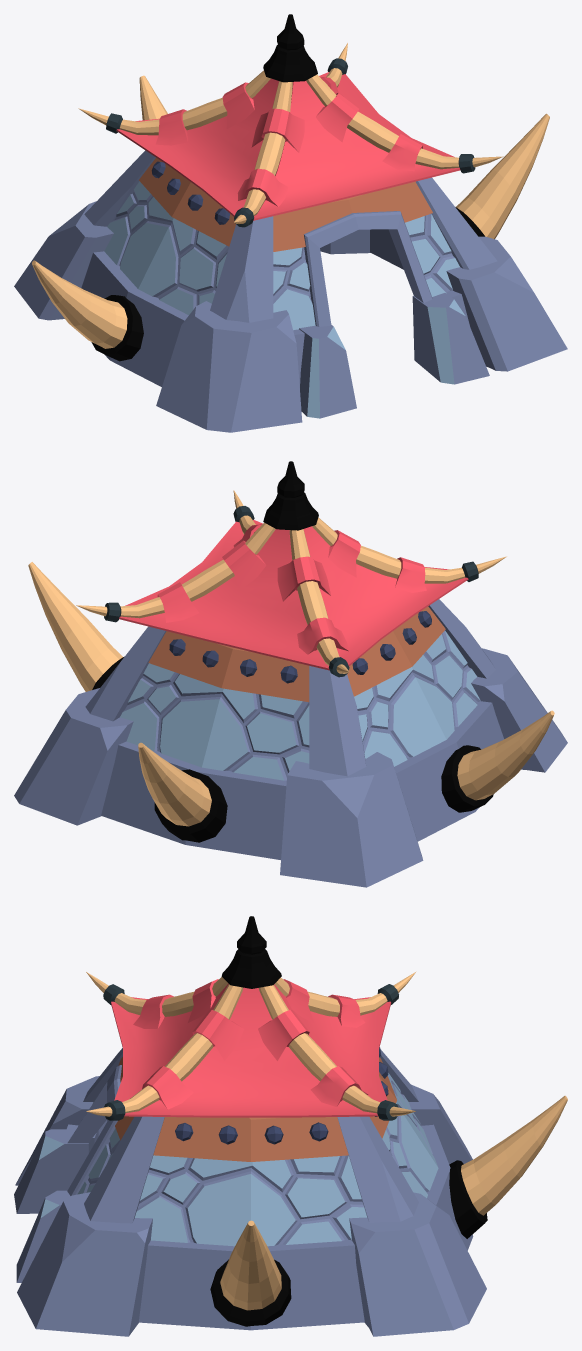
Rendered from Ork Hut 01.fbx.
3 views of the same model, one above another, from view 1: azimuth 30°, elevation 25°; view 2: azimuth 150°, elevation 25°; view 3: azimuth 270°, elevation 25° (orthographic). The views are drawn at different scales.
Visible parts, largest first — view 1: Ork Hut 01; view 2: Ork Hut 01; view 3: Ork Hut 01.
Boxes of the visible parts, x1,y1,x2,y2 form: Ork Hut 01: (14,14,567,432); Ork Hut 01: (14,461,567,887); Ork Hut 01: (14,916,567,1336).
Size of the model in its own units: 927 by 518 by 810.
